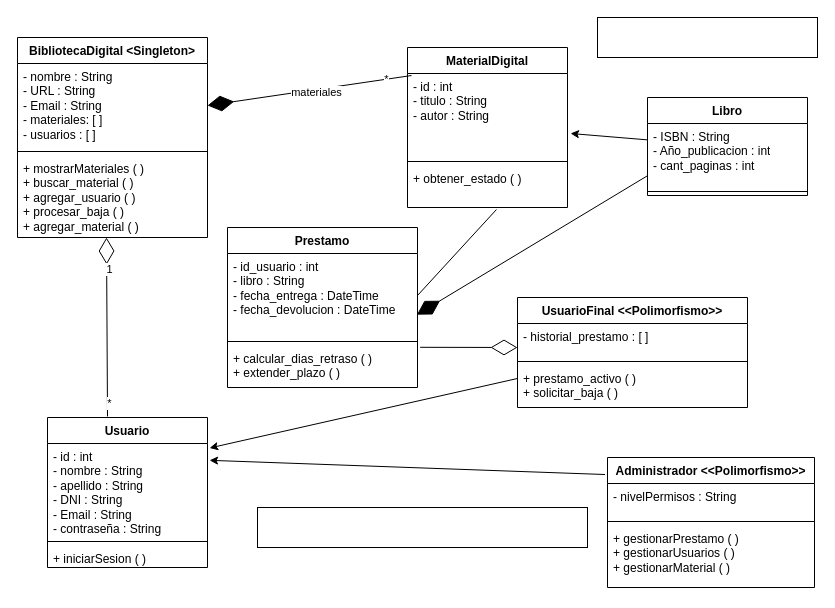
Some shapes in this 835 by 608 pixel diagram are drawn without their labels. Here are the shapes that lost their labels. From the top down, the centre of each, then its label:
At (x=707, y=37): "<<MetaEntidad>> Todas las clases tienen id obligatorio".
At (x=422, y=527): "@loggear_accion --> decorar para registrar acciones".
